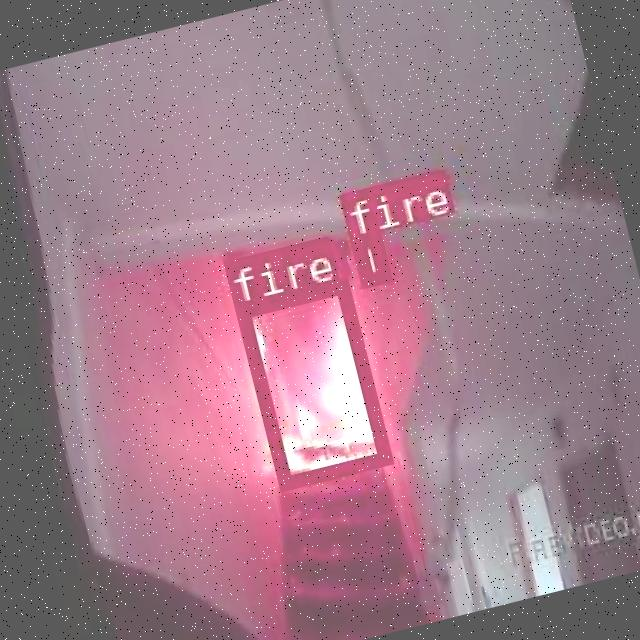fire: (232, 276, 390, 488), (348, 230, 387, 284)
